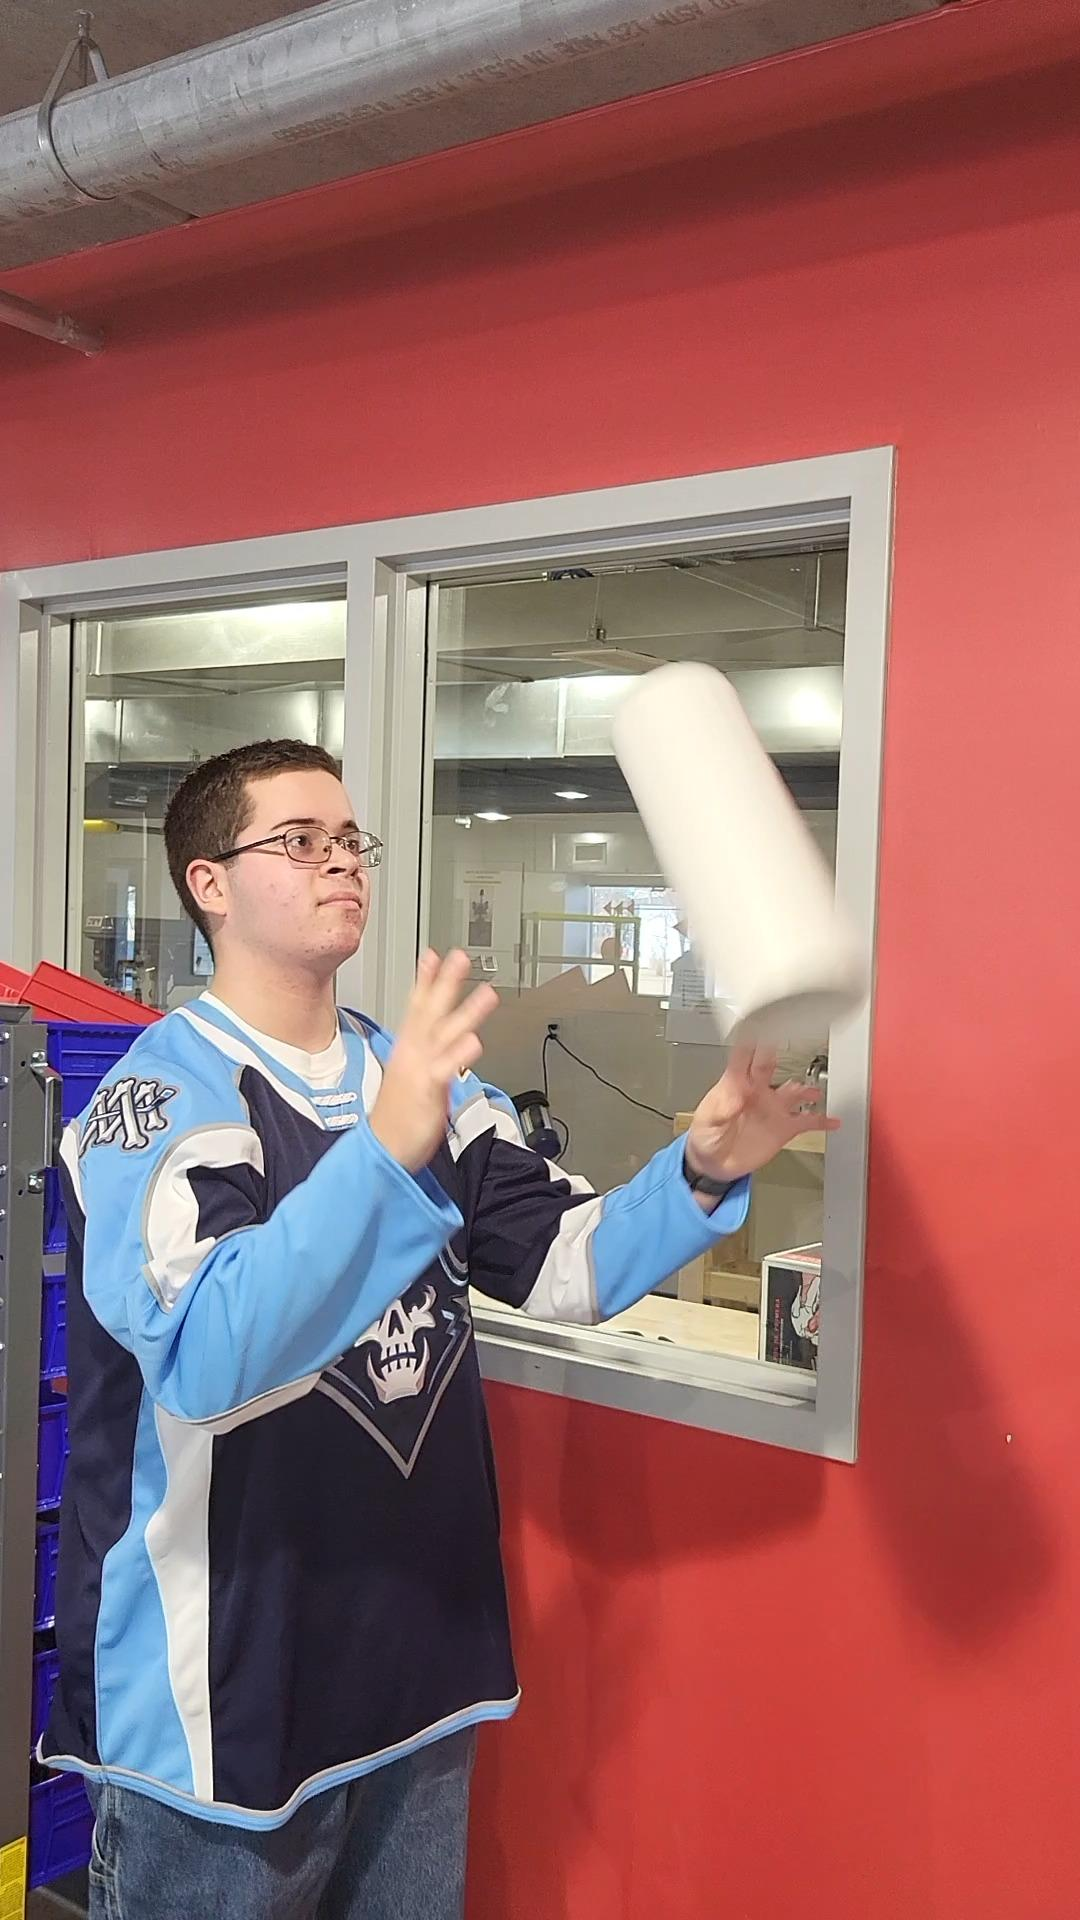coral: (611, 650, 886, 1067)
